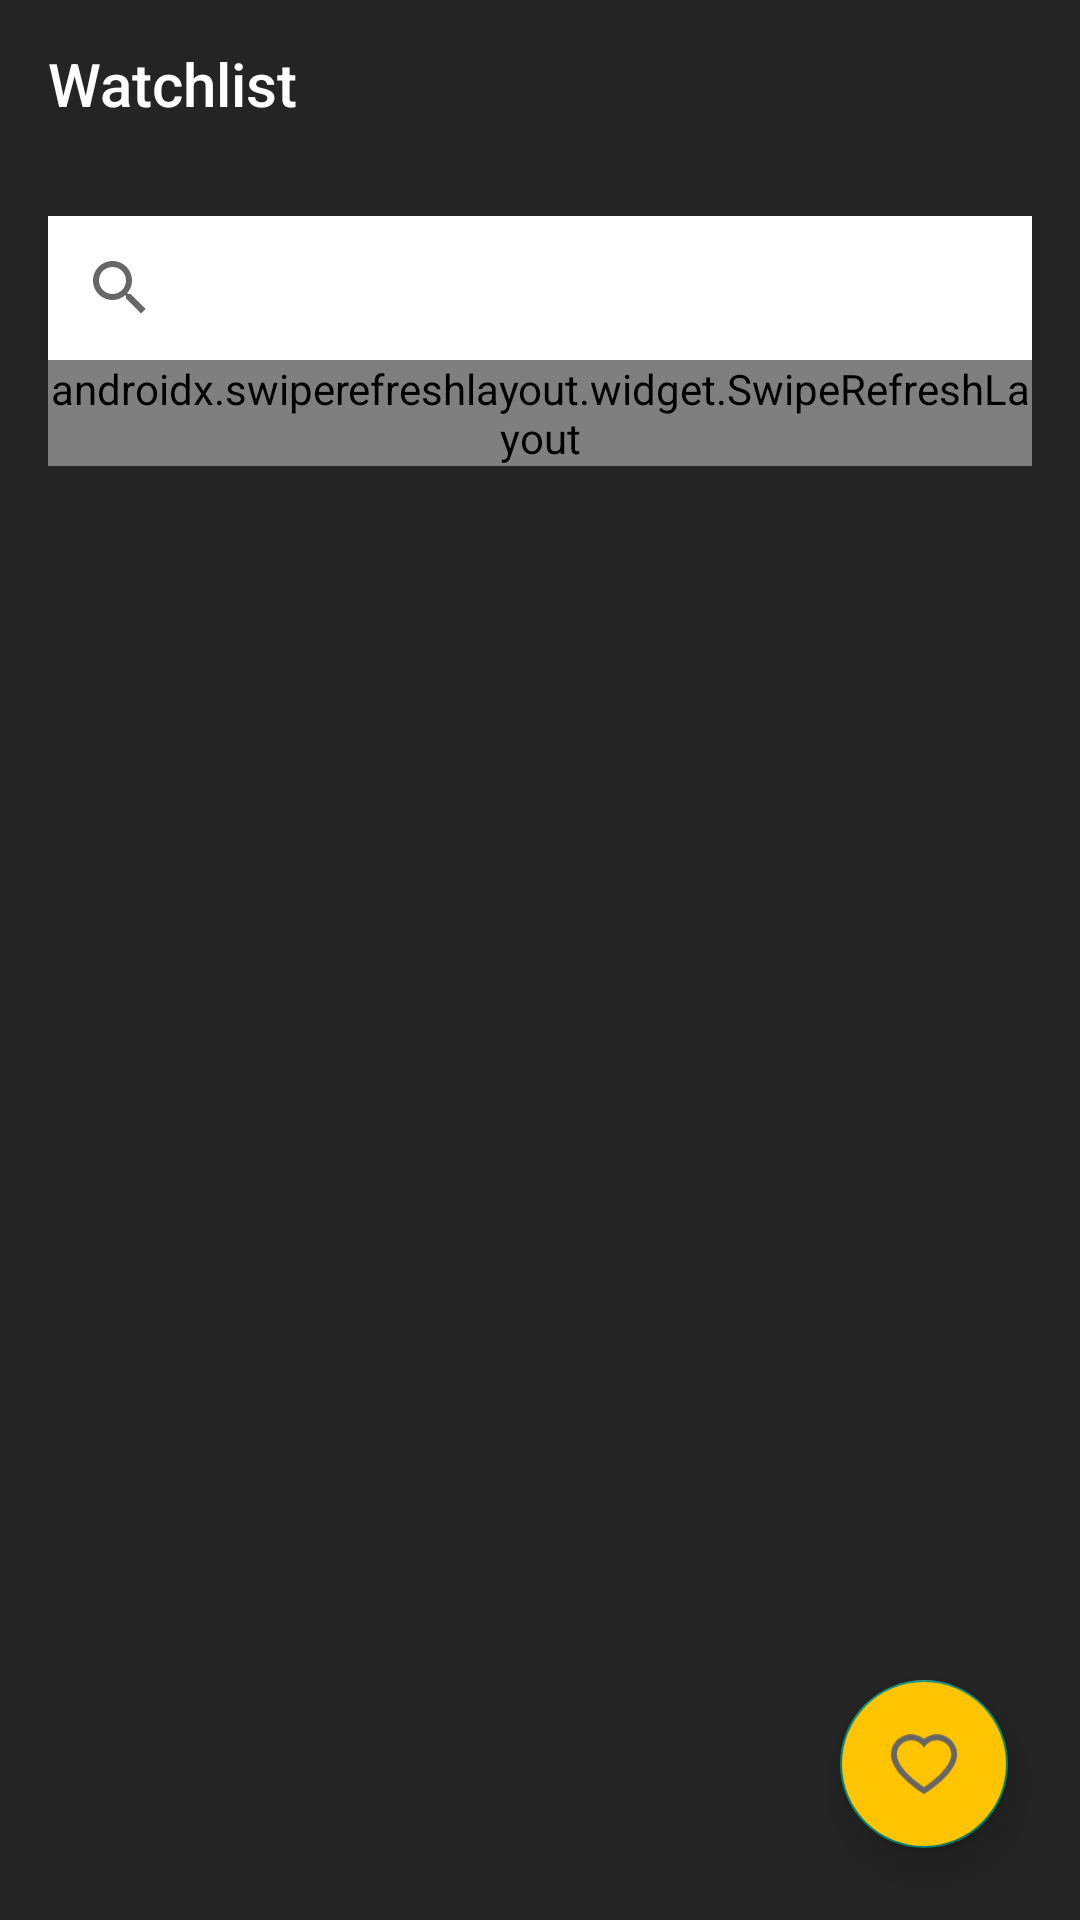

Locate icon controls on the screen. Image size 1080×1920, boxes as bbox=[x1, y1, x2, y2].
heart: bbox=[840, 1680, 1008, 1848]
